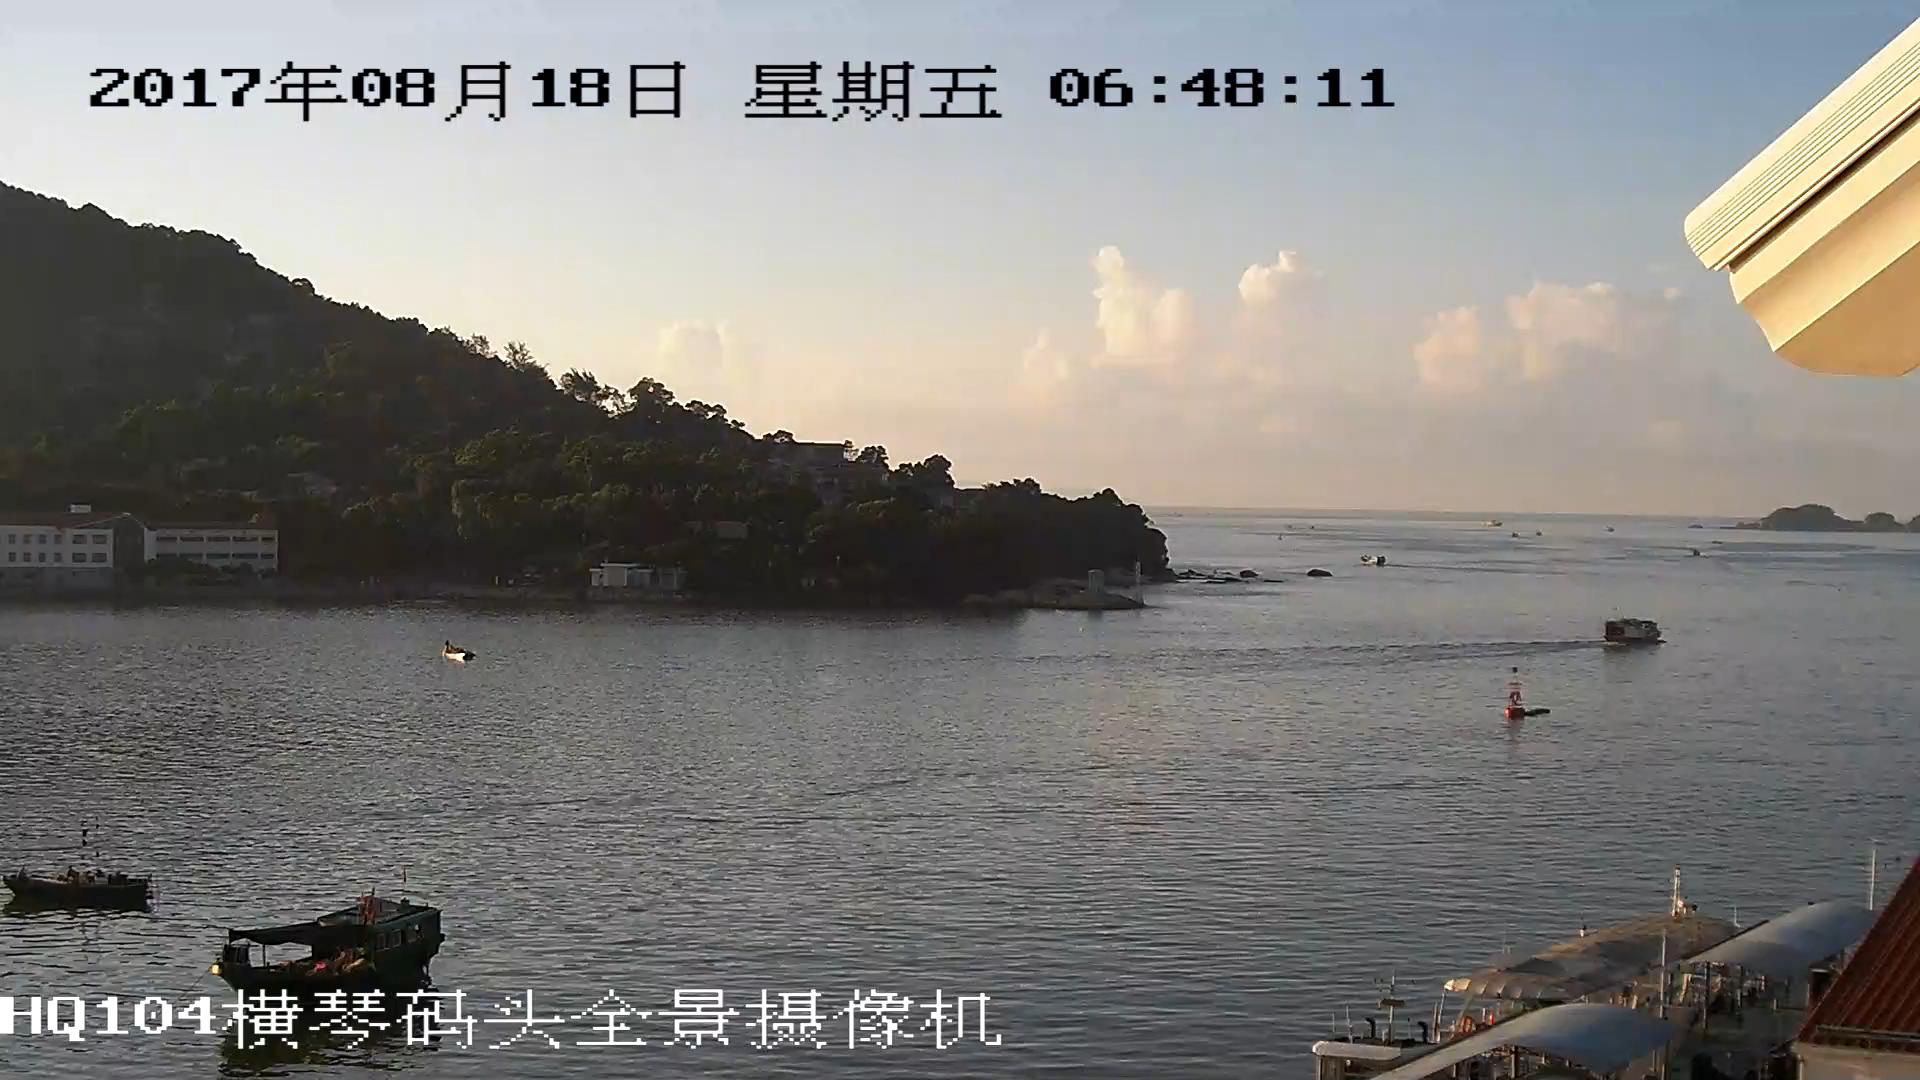fishing boat: (204, 902, 455, 970), (1, 858, 154, 906)
